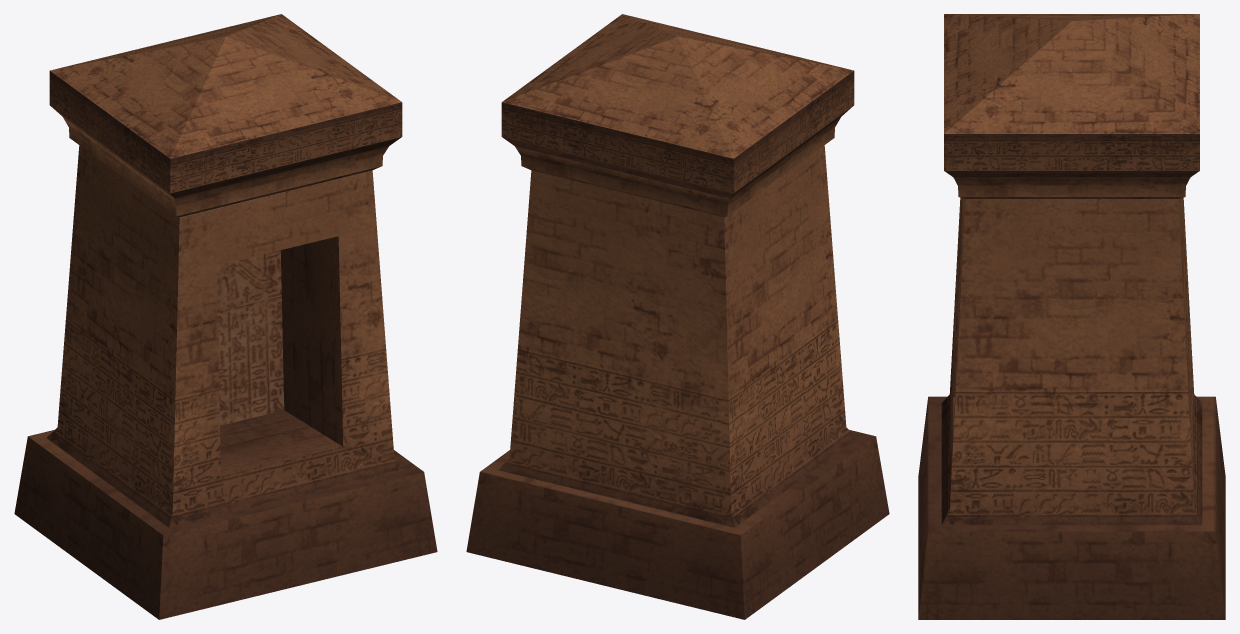
File: Alcove.fbx
3 renders of one model, left to right at view 1: azimuth 30°, elevation 25°; view 2: azimuth 150°, elevation 25°; view 3: azimuth 270°, elevation 25°, orthographic. The views are drawn at different scales.
Parts seen in each view (by area): view 1: Alcove; view 2: Alcove; view 3: Alcove.
Boxes of the visible parts, bbox=[...] form: Alcove: bbox=[14, 14, 437, 619]; Alcove: bbox=[466, 14, 889, 619]; Alcove: bbox=[918, 14, 1225, 619].
Bounding box in the file's own units: 70.28 × 120 × 63.27.
